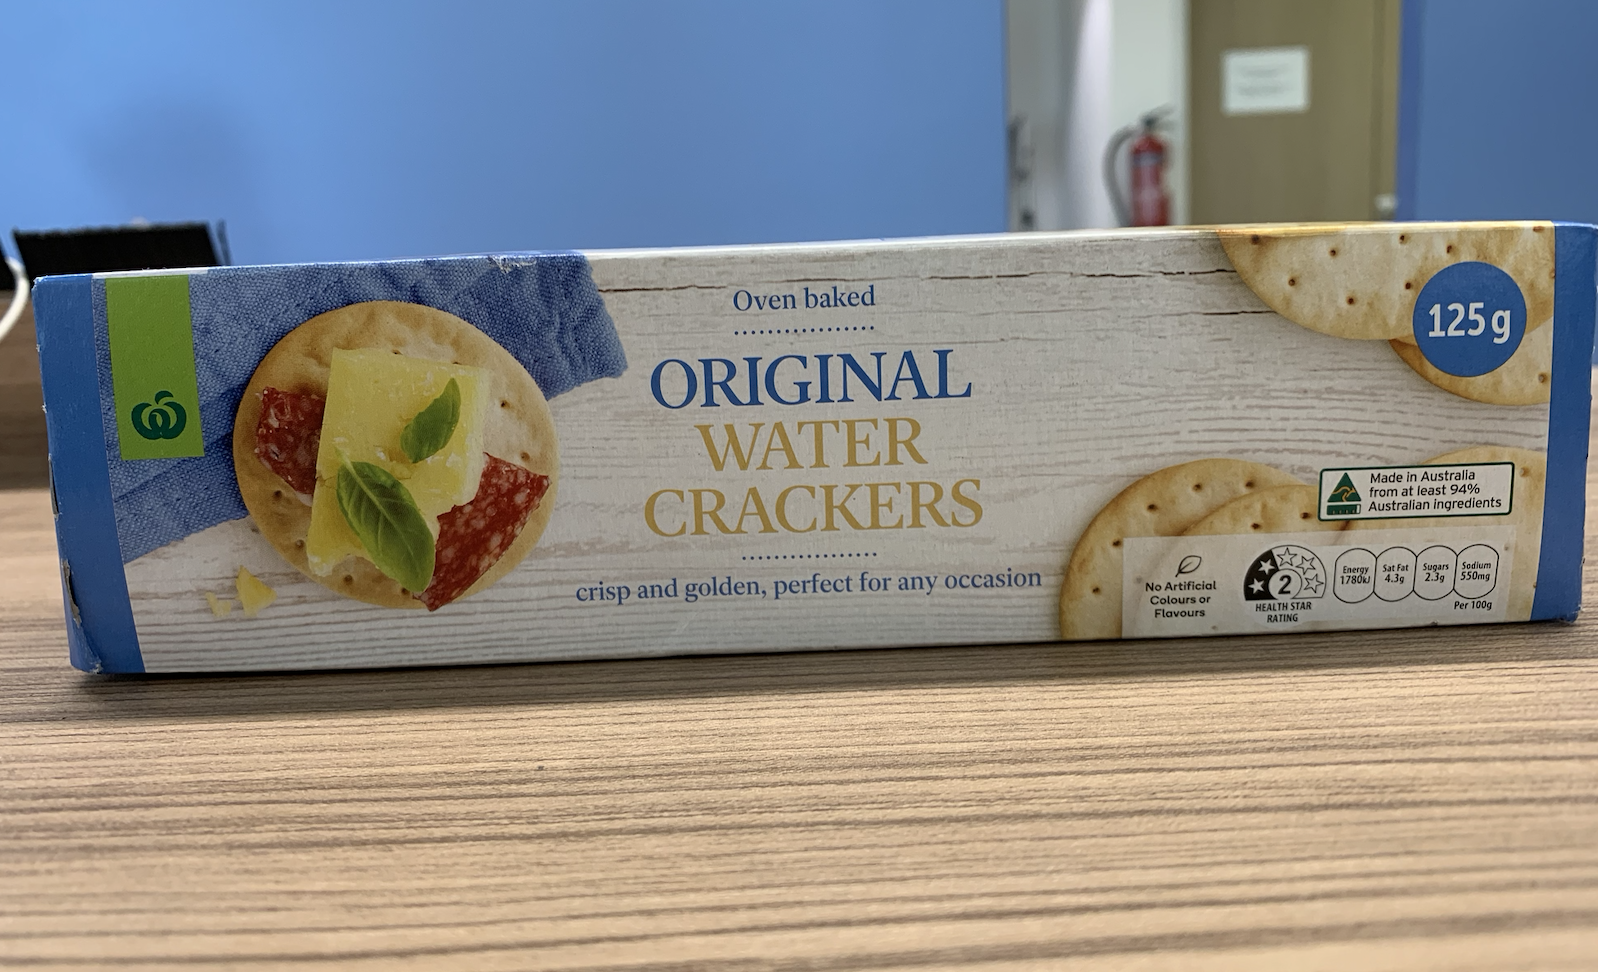crackers_100g-199g: (74, 268, 1543, 621)
